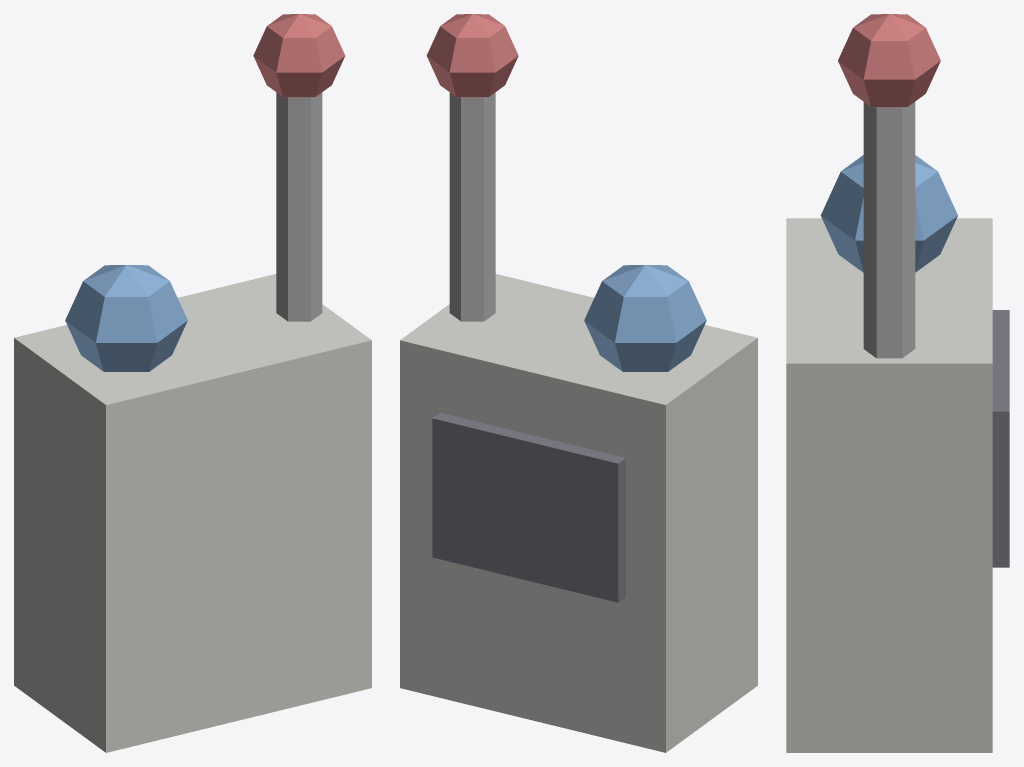
File: kid_monitor_bebe.glb
3 renders of one model, left to right at view 1: azimuth 30°, elevation 25°; view 2: azimuth 150°, elevation 25°; view 3: azimuth 270°, elevation 25°, orthographic. The views are drawn at different scales.
Parts seen in each view (by area): view 1: KID_MONITOR_BEBE_v01; view 2: KID_MONITOR_BEBE_v01; view 3: KID_MONITOR_BEBE_v01.
Boxes of the visible parts, x1,y1,x2,y2 form: KID_MONITOR_BEBE_v01: (14, 14, 371, 752); KID_MONITOR_BEBE_v01: (400, 14, 757, 752); KID_MONITOR_BEBE_v01: (786, 14, 1009, 752).
Bounding box in the file's own units: 0.206 × 0.465 × 0.13.
